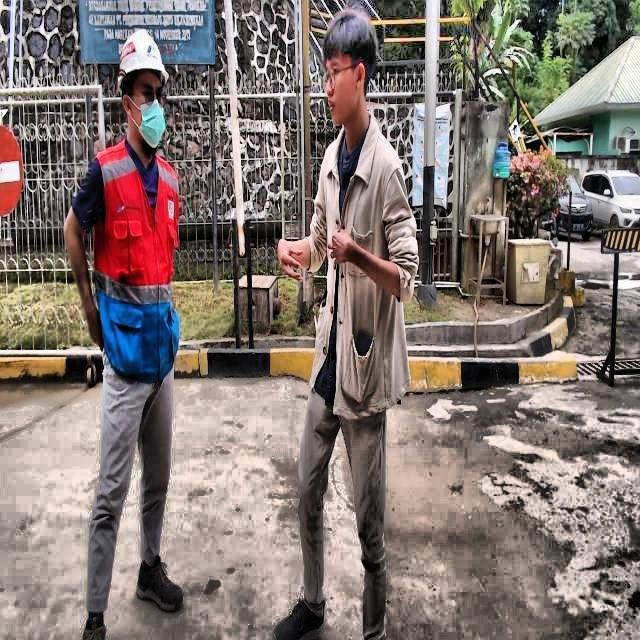safety_helmet: (116, 29, 170, 92)
safety_jacket: (94, 137, 182, 379)
